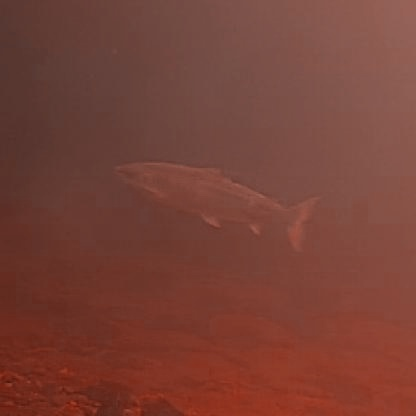salmon: (106, 153, 324, 253)
